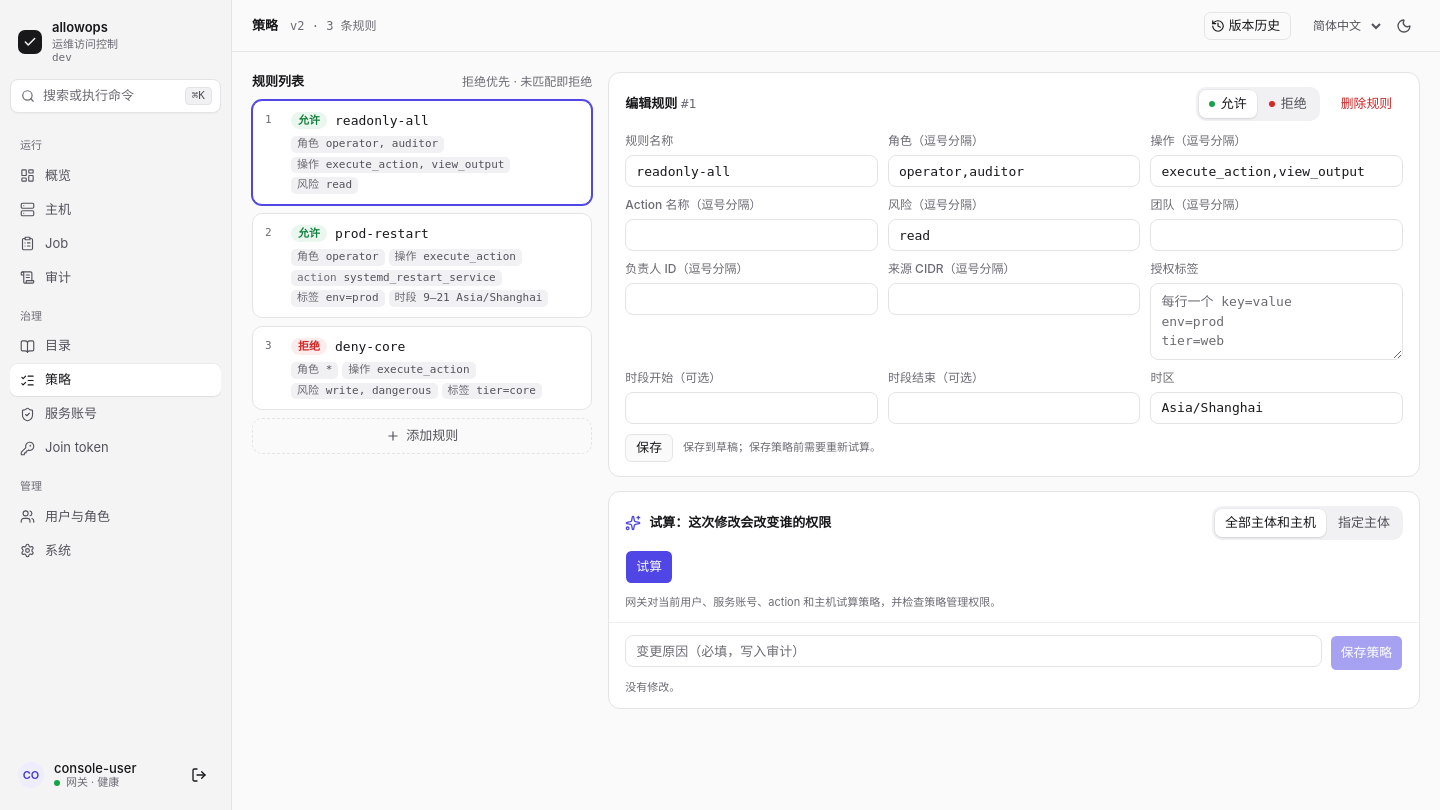
Test: policy save conditions › saves a draft without a deleted rule after simulating it
Expected: the heading "策略" is shown, [252,16,278,35]
Expected: the button with aria-label "编辑 readonly-all" is shown, [252,100,592,204]
Step 1. Click the button with aria-label "编辑 deny-core" → (422, 368), box [252,326,592,410]
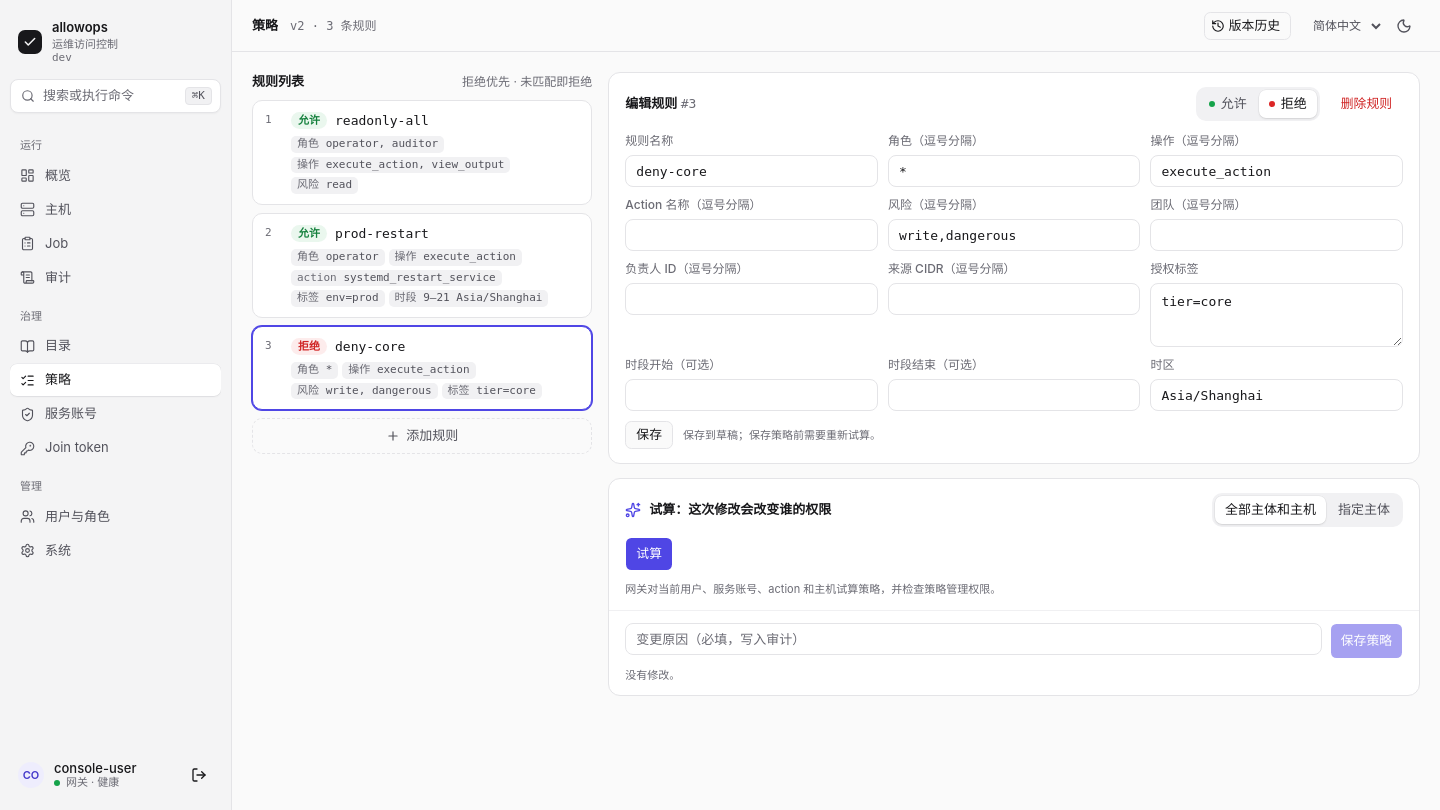
Step 2. Click the button "删除规则" → (1366, 104), box [1330,90,1403,118]
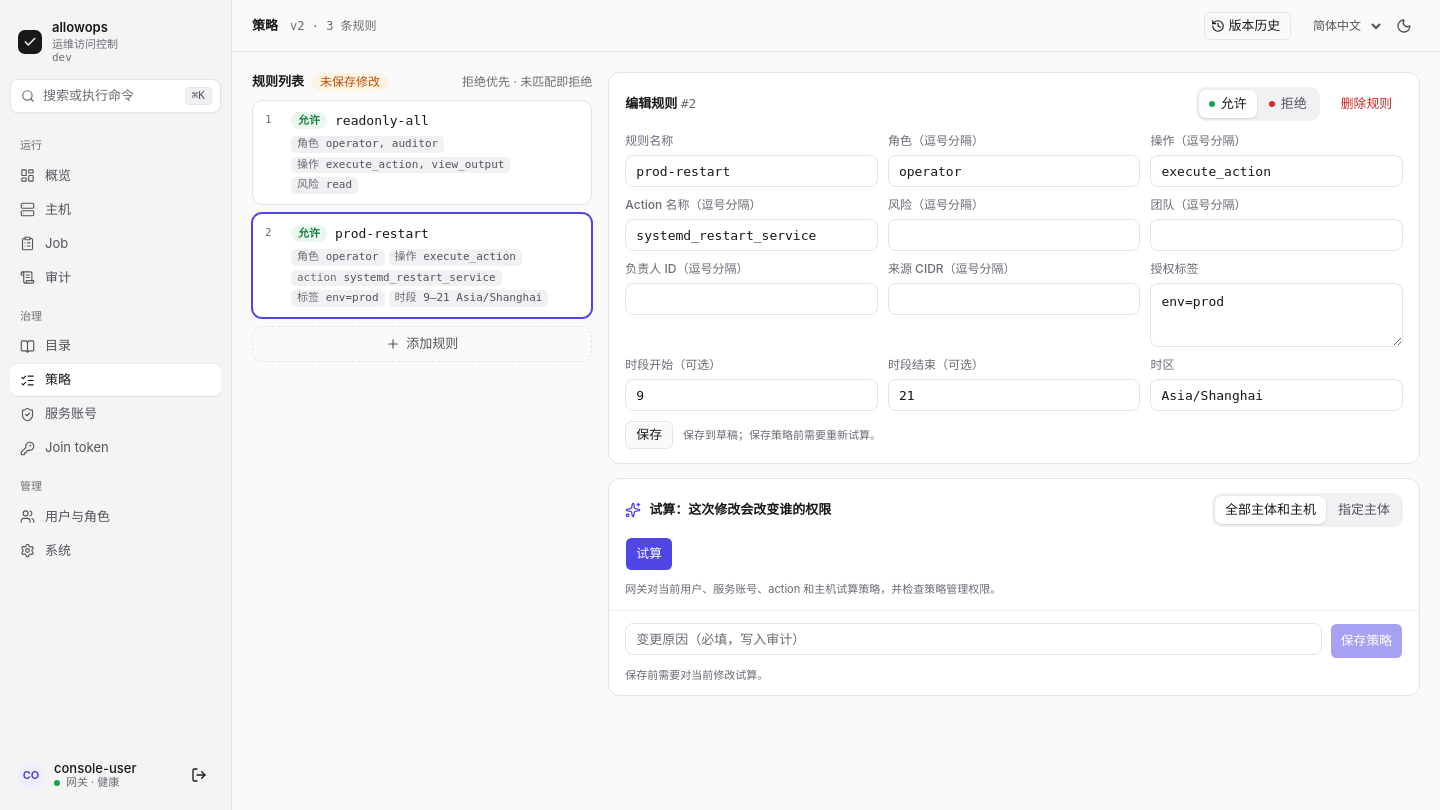
Now the text "未保存修改" is shown, box [312,73,388,91]
Step 3. Click the button "试算" → (649, 554), box [625,537,673,571]
(page scrolled)
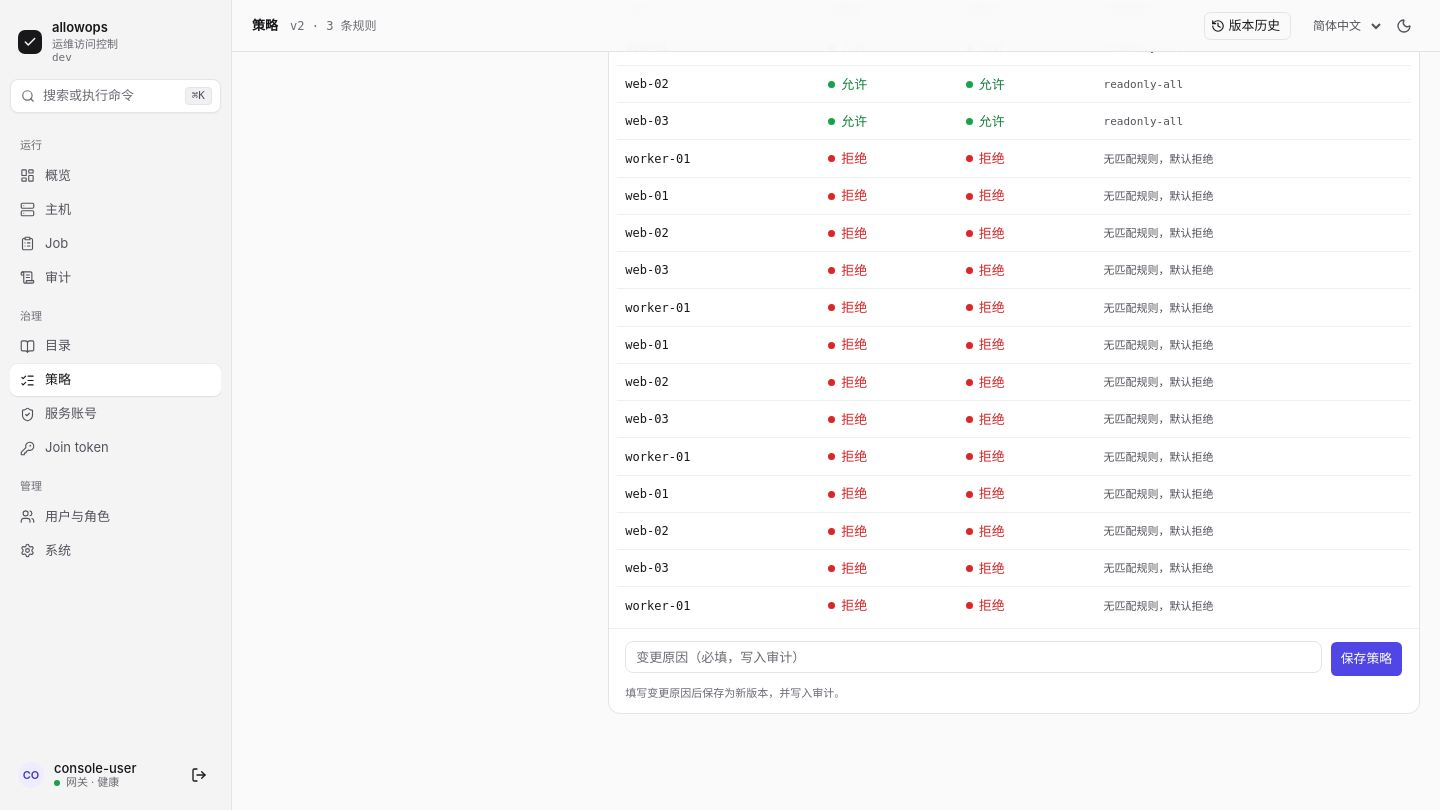
Step 4. Type "drop deny-core" into the field labelled "变更原因" → (974, 656), box [625,640,1322,672]
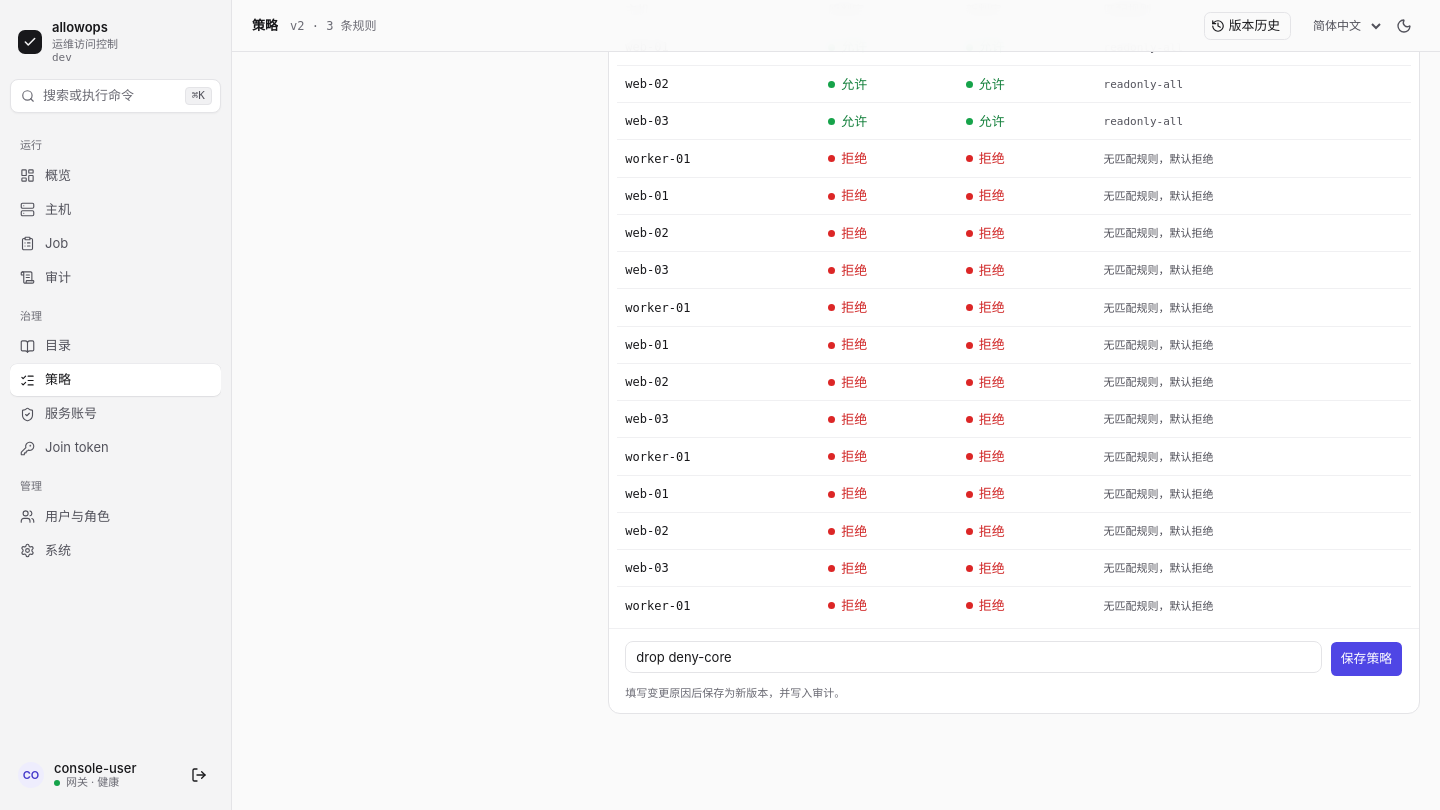
Step 5. Click the button "保存策略" → (1366, 658), box [1330,640,1403,676]
(page scrolled)
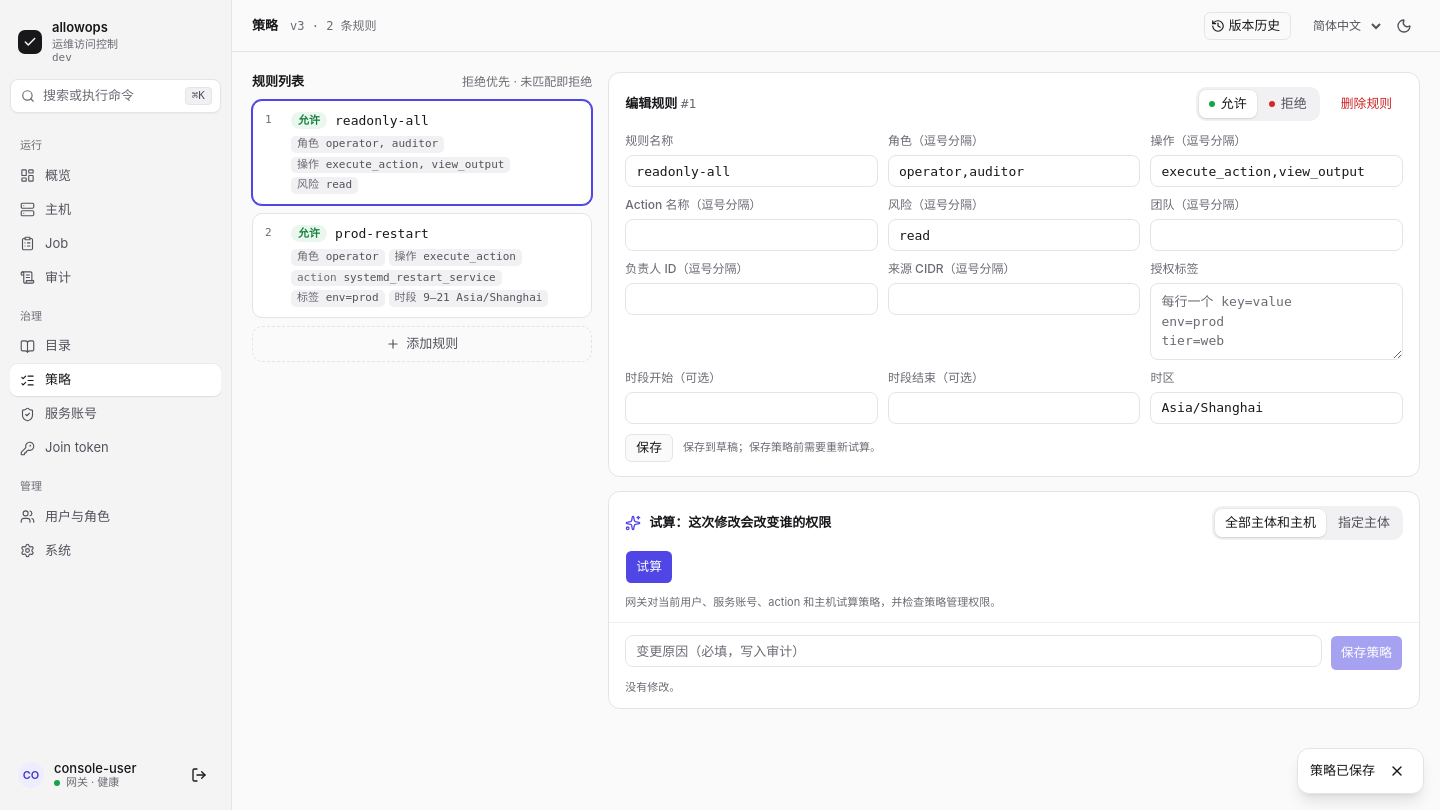
Now the message reads "策略已保存", box [1310,762,1375,778]
